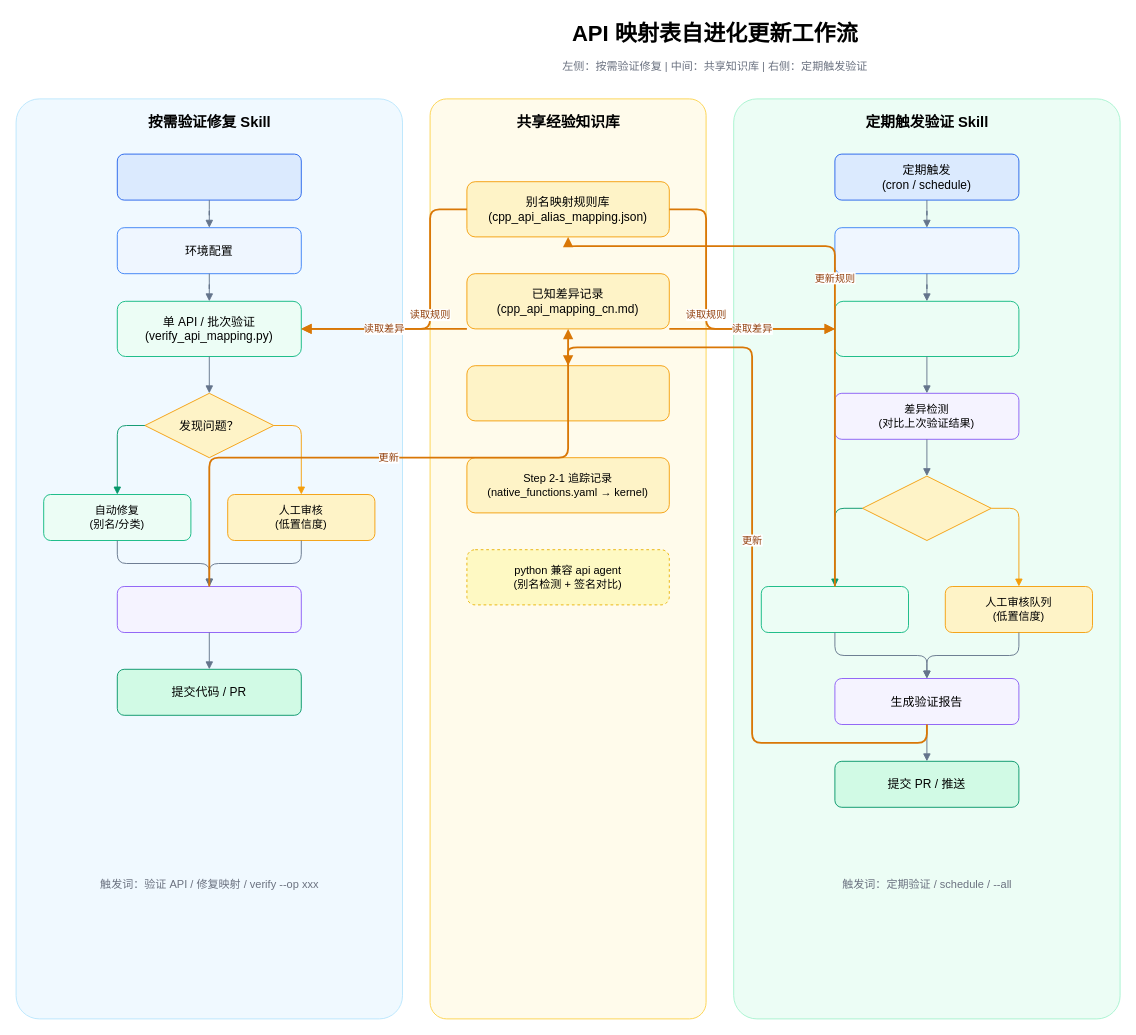
Some shapes in this 1136 by 1035 pixel diagram are drawn without their labels. The shapes that lost their labels are listed below. From the top down, each one's box as (x1, y1, x2, y2) in pixels, then its label:
(116, 153, 301, 200): 用户输入目标 API / 批次
(834, 227, 1019, 274): 环境配置 (libtorch / Paddle / PyTorch)
(834, 300, 1019, 356): 全量验证 (P0-P4 优先级分批)
(466, 365, 669, 421): 验证历史报告 (verification_output/)
(862, 475, 991, 540): 发现新差异？
(116, 586, 301, 632): 生成修复报告
(760, 586, 908, 632): 自动修复 (高置信度)
